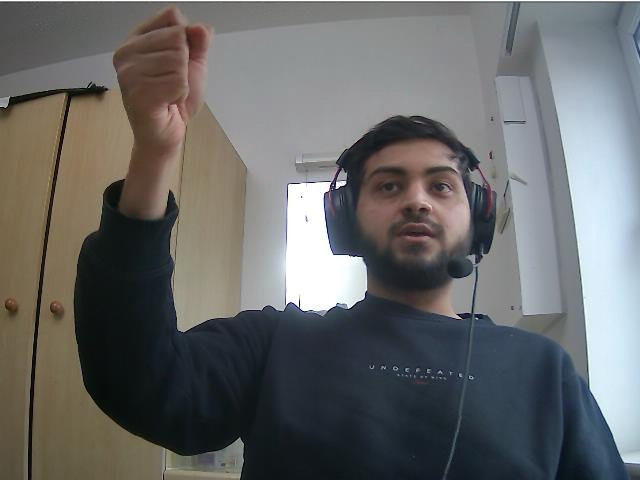hold: (111, 5, 213, 137)
